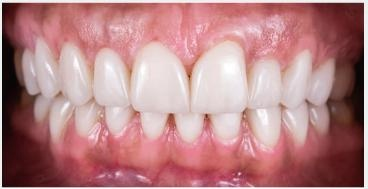Gingivitis: (69, 152, 254, 184)
